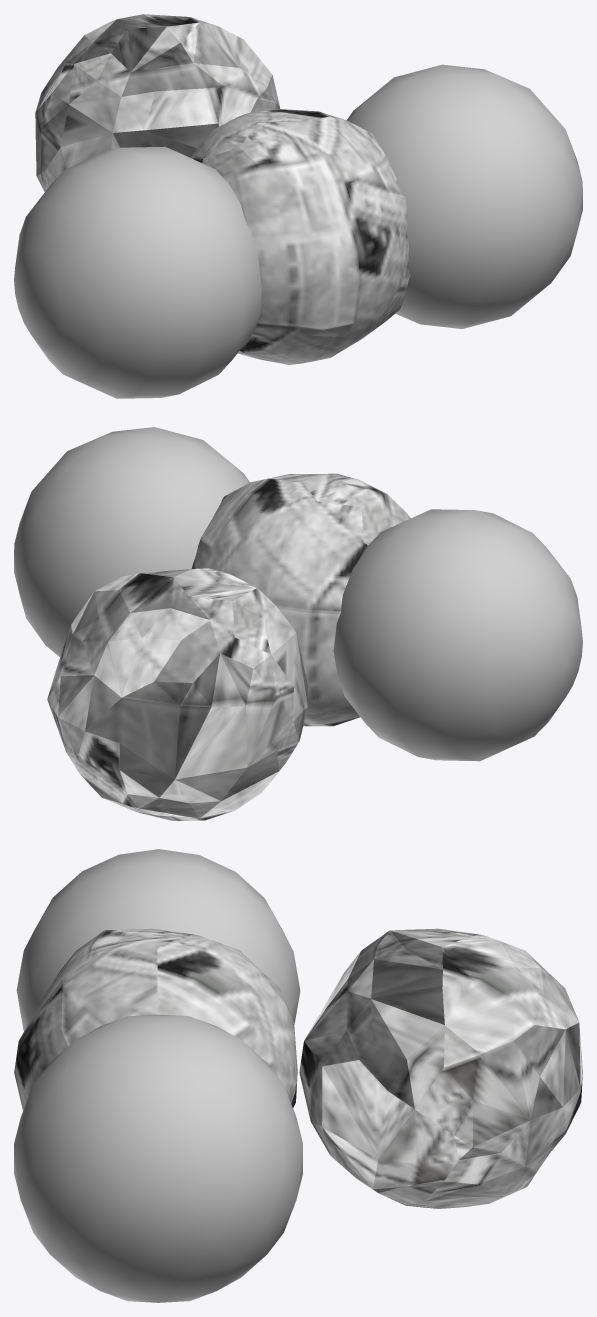
Rendered from P_Balls.FBX.
3 renders of one model, top to bottom at view 1: azimuth 30°, elevation 25°; view 2: azimuth 150°, elevation 25°; view 3: azimuth 270°, elevation 25°, orthographic. The views are drawn at different scales.
Visible parts, largest first — view 1: P_Ball_Wood_MF, P_Ball_Stone_MF, P_Ball_Paper_MF, P_Ball_Paper_Improved; view 2: P_Ball_Paper_Improved, P_Ball_Wood_MF, P_Ball_Stone_MF, P_Ball_Paper_MF; view 3: P_Ball_Stone_MF, P_Ball_Paper_Improved, P_Ball_Paper_MF, P_Ball_Wood_MF.
Part boxes in pixels (x1,y1,x2,y2): P_Ball_Wood_MF: [14, 146, 261, 398]; P_Ball_Stone_MF: [346, 64, 582, 328]; P_Ball_Paper_MF: [190, 108, 409, 364]; P_Ball_Paper_Improved: [35, 14, 280, 191]; P_Ball_Paper_Improved: [47, 568, 307, 820]; P_Ball_Wood_MF: [333, 509, 582, 761]; P_Ball_Stone_MF: [14, 427, 249, 656]; P_Ball_Paper_MF: [191, 473, 410, 726]; P_Ball_Stone_MF: [14, 1014, 302, 1302]; P_Ball_Paper_Improved: [299, 928, 582, 1208]; P_Ball_Paper_MF: [14, 928, 297, 1110]; P_Ball_Wood_MF: [16, 849, 300, 1030].
Bounding box in the file's own units: 9.64 × 4.15 × 8.02.
